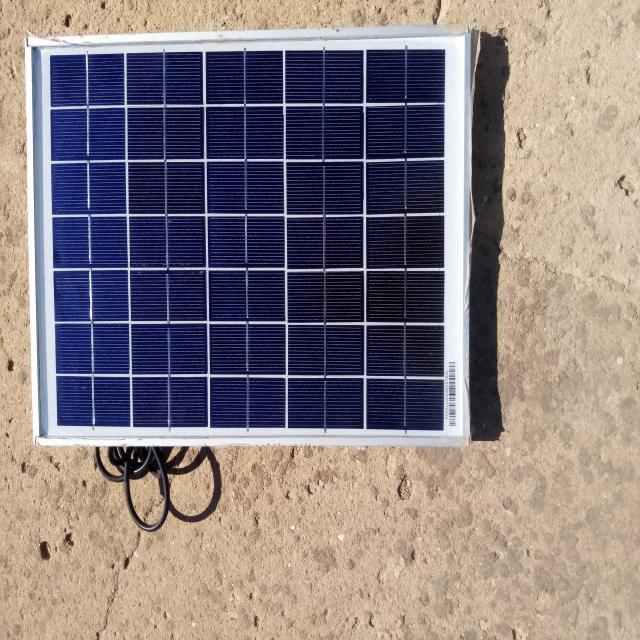no faulty: (26, 27, 472, 443)
